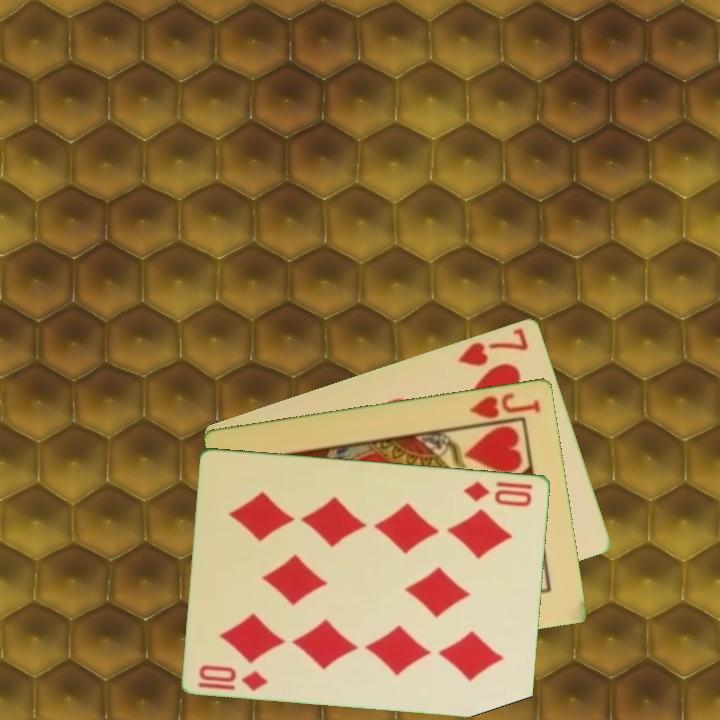10d: (195, 661, 271, 694), (461, 477, 535, 509)
7h: (454, 324, 531, 369)
Jh: (462, 388, 544, 428)
